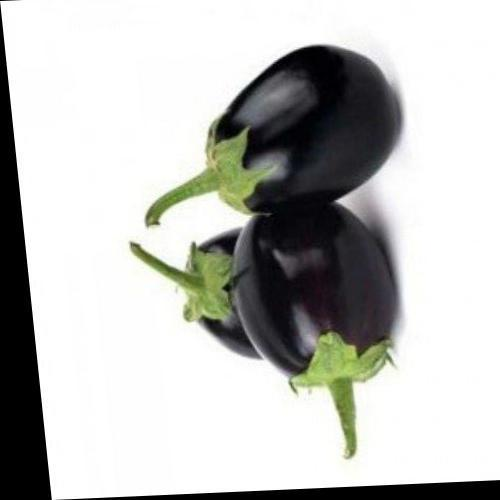eggplant: (109, 51, 406, 433), (111, 172, 407, 478), (216, 179, 412, 463), (178, 45, 422, 212)
